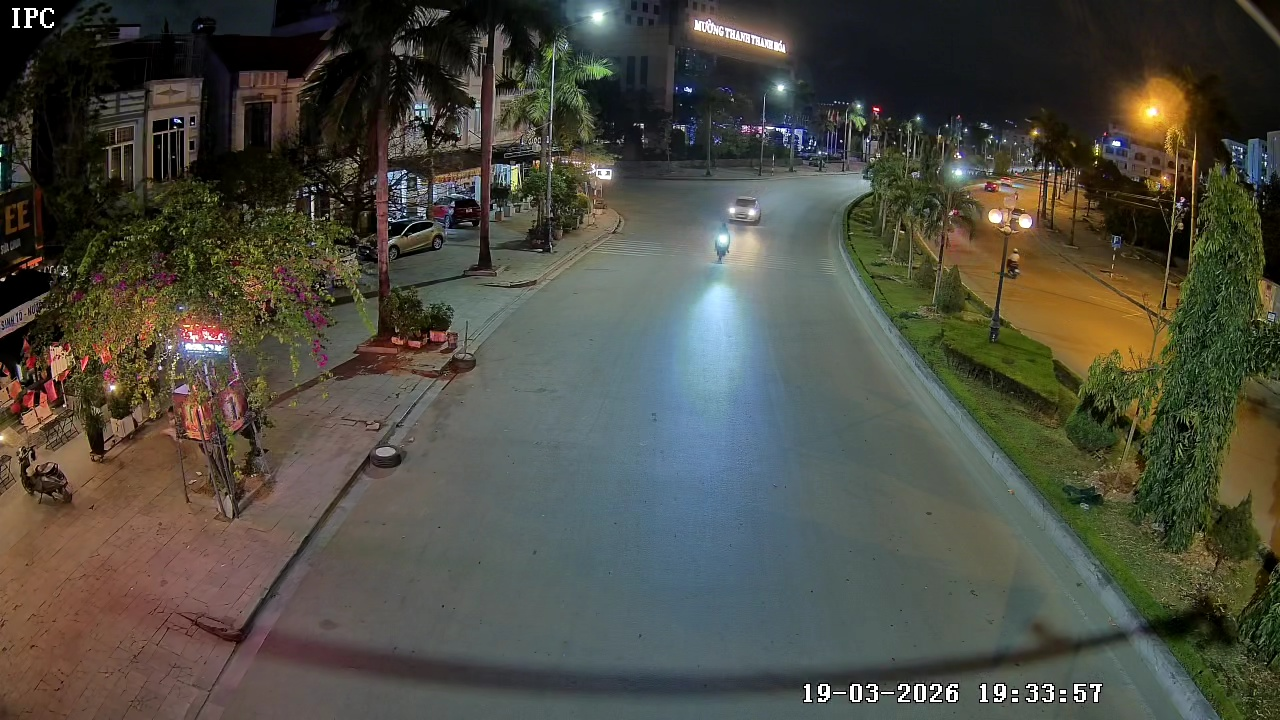car: (725, 192, 763, 226)
motorbike: (713, 220, 733, 263)
